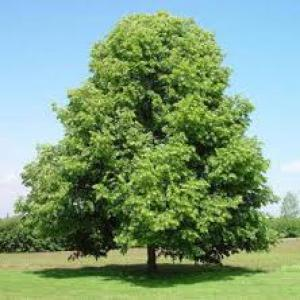Tree: (16, 12, 273, 276)
